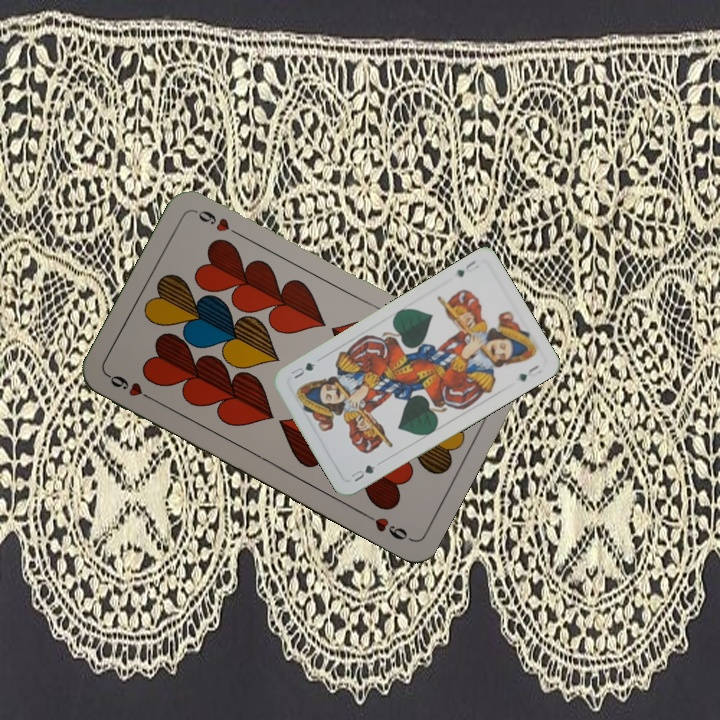GU: (347, 461, 378, 485), (453, 256, 482, 280)
H9: (104, 370, 158, 404)
